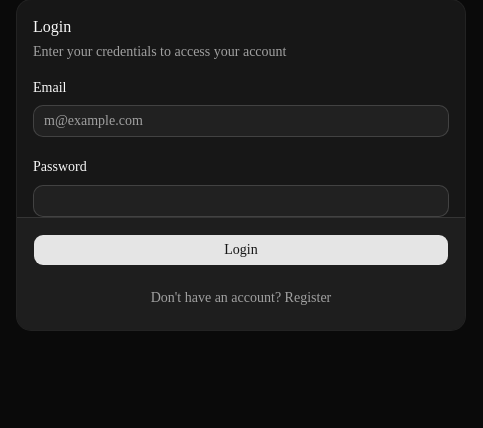
Test: AuthForm › displays error message on failure
Type "wrong@example.com" into the field labelled "Email".
click(241, 121); type("wrong@example.com")  # box [33,105,449,137]
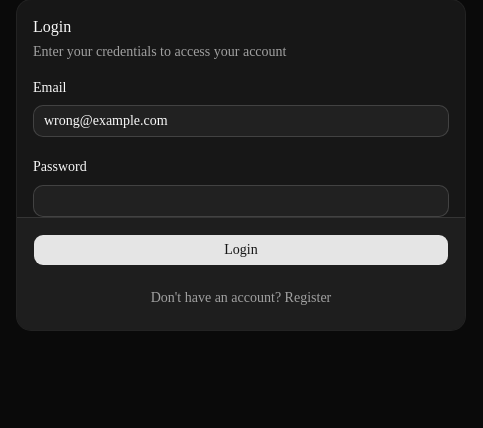
Type "wrongpass" into the password field labelled "Password".
click(241, 200); type("wrongpass")  # box [33,184,449,216]
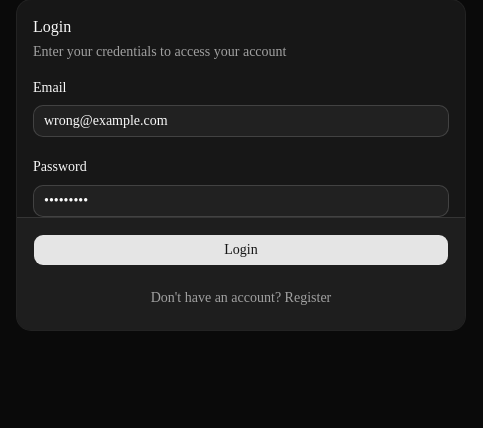
Click the button "Login".
click(241, 250)  # box [33,234,449,266]
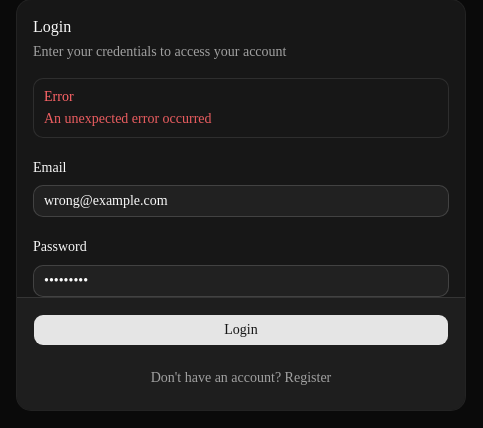
Expected: the text "An unexpected error occurred" is shown, [44,111,212,126]
